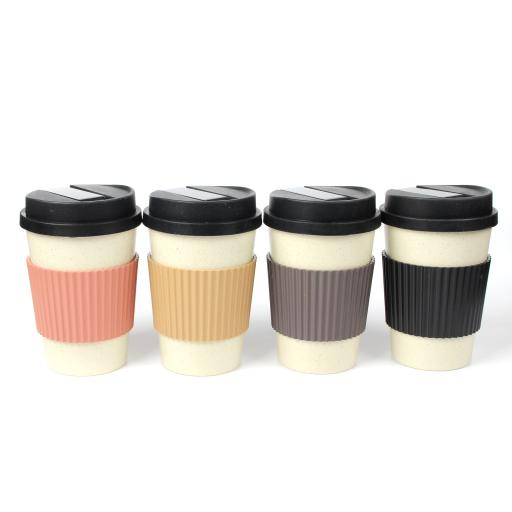cup: (20, 184, 142, 376), (143, 186, 262, 376), (380, 184, 498, 370), (264, 186, 380, 374)
